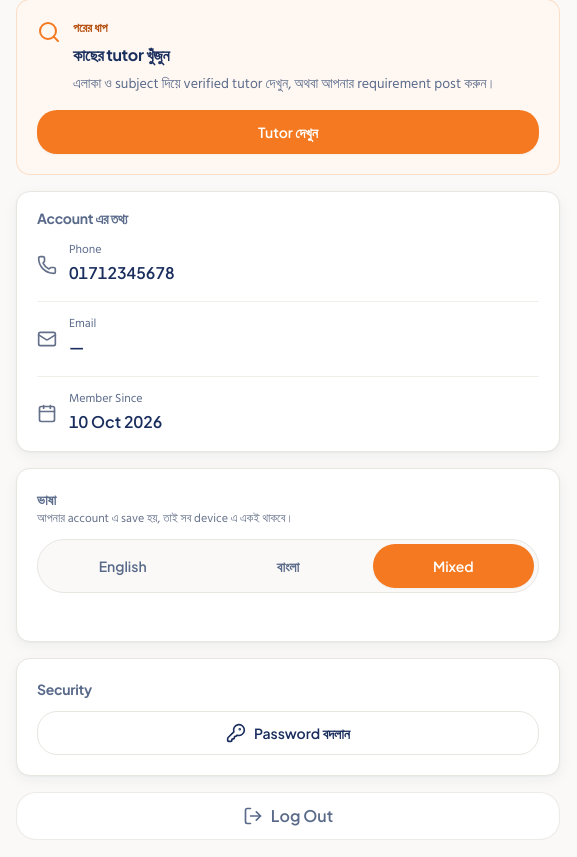
Test: Dashboard › saves the chosen language to the account
(page scrolled)
Click the radio button labelled "বাংলা": x=288, y=566 [207,544,369,588]
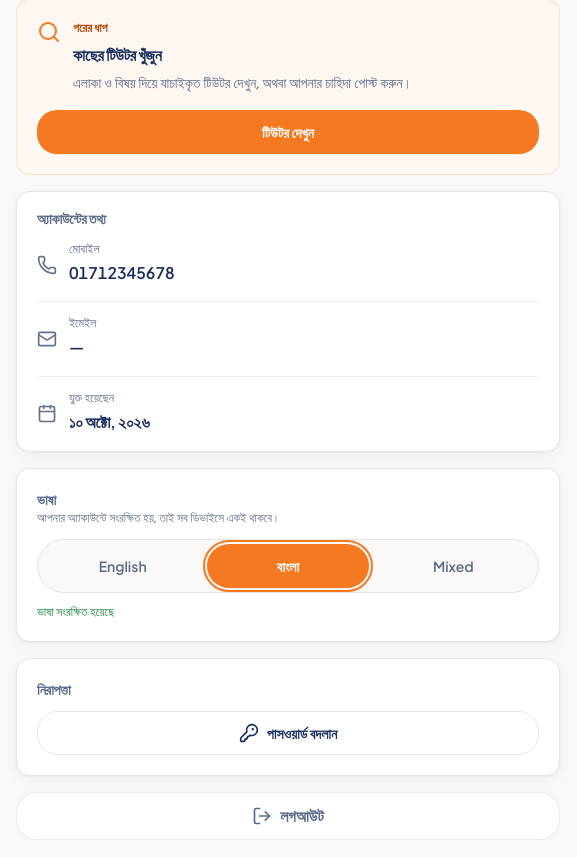
Check: the text "ভাষা সংরক্ষিত হয়েছে" is shown, box [37,603,114,622]
